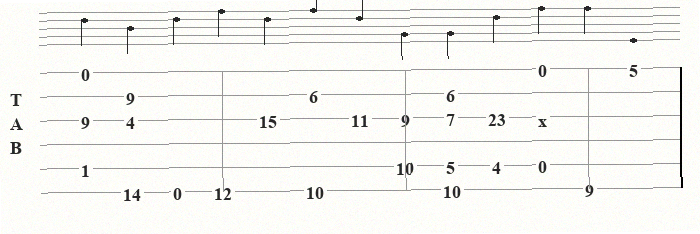0: (81, 62, 94, 78), (172, 182, 185, 198), (538, 62, 551, 78), (538, 158, 551, 174)
1: (81, 158, 94, 174)
10: (305, 182, 327, 198), (396, 158, 418, 174), (442, 182, 464, 198)
11: (351, 110, 373, 126)
12: (213, 182, 235, 198)
14: (122, 182, 144, 198)
15: (259, 110, 281, 126)
23: (488, 110, 510, 126)
4: (126, 110, 139, 126), (492, 158, 505, 174)
5: (446, 158, 459, 174), (629, 62, 642, 78)
6: (309, 86, 322, 102), (446, 86, 459, 102)
7: (446, 110, 459, 126)
9: (81, 110, 94, 126), (126, 86, 139, 102), (401, 110, 414, 126), (584, 182, 597, 198)
x: (538, 112, 551, 124)
